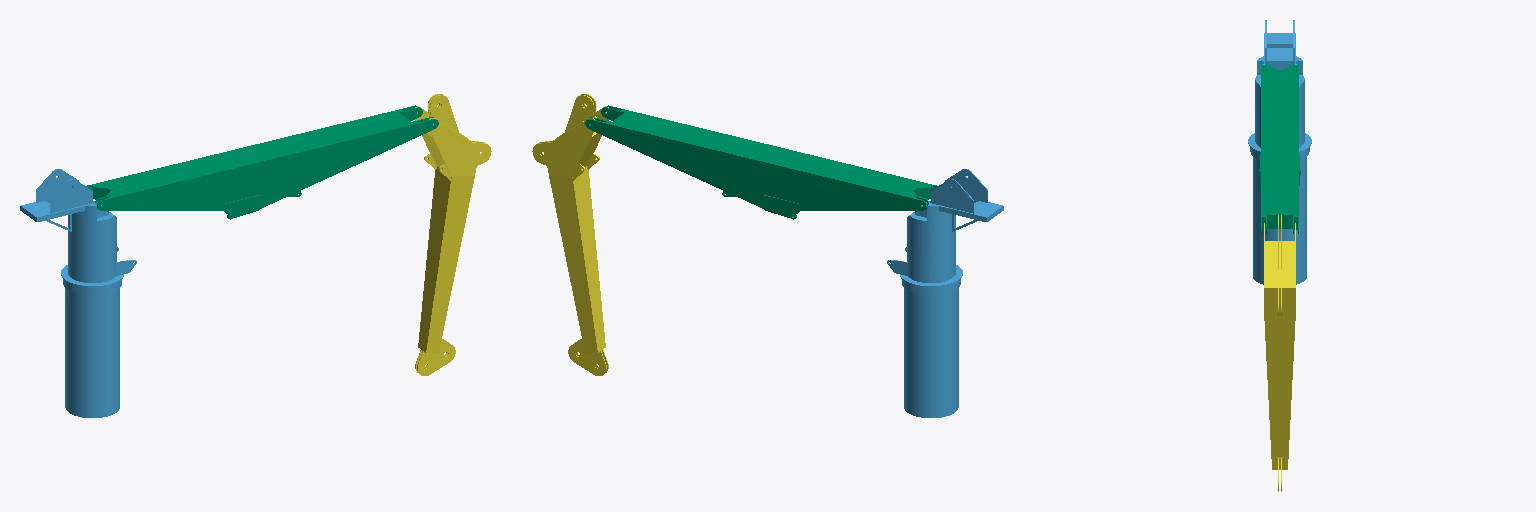
robot.urdf — crane3r:
<?xml version="1.0"?>
<robot name="crane3r">
  <!-- Links -->
  <link name="world"/>
  <link name="base_link">
    <visual>
      <geometry>
        <mesh filename="../models/obj/Crane3R/4200/4200.obj"/>
      </geometry>
    </visual>
  </link>
  <link name="boom_link">
    <visual>
      <geometry>
        <mesh filename="../models/obj/Crane3R/7000/7000.obj"/>
      </geometry>
    </visual>
  </link>
  <link name="jib_link">
    <visual>
      <geometry>
        <mesh filename="../models/obj/Crane3R/5200/5200.obj"/>
      </geometry>
    </visual>
  </link>
  <link name="end_effector"/>

  <!-- base_joint: rotates about Z between world -> base_link -->
  <joint name="base_joint" type="revolute">
    <parent link="world"/>
    <child link="base_link"/>
    <origin xyz="0 0 0" rpy="0 0 0"/>
    <axis xyz="0 0 1"/>
    <limit lower="-3.1416" upper="3.1416" effort="1.0" velocity="1.0"/>
  </joint>

  <!-- boom_joint: offset (0,0,4.2), rotates about Y (pitch) base_link -> boom_link -->
  <joint name="boom_joint" type="revolute">
    <parent link="base_link"/>
    <child link="boom_link"/>
    <origin xyz="0 0 4.2" rpy="0 0 0"/>
    <axis xyz="0 1 0"/>
    <limit lower="-1.396" upper="0" effort="1.0" velocity="1.0"/>
  </joint>

  <!-- jib_joint: offset (7,0,0), rotates about Y (pitch) boom_link -> jib_link -->
  <joint name="jib_joint" type="revolute">
    <parent link="boom_link"/>
    <child link="jib_link"/>
    <origin xyz="7 0 0" rpy="0 0 0"/>
    <axis xyz="0 1 0"/>
    <limit lower="0.69" upper="2.44" effort="1.0" velocity="1.0"/>
  </joint>

  <!-- end effector fixed offset (5.2,0,0) -->
  <joint name="ee_fixed" type="fixed">
    <parent link="jib_link"/>
    <child link="end_effector"/>
    <origin xyz="5.2 0 0" rpy="0 0 0"/>
  </joint>
</robot>

--- Render facts (derived) ---
3 views of the same robot in one strip: view 1: azimuth 30°, elevation 25°; view 2: azimuth 150°, elevation 25°; view 3: azimuth 270°, elevation 25° (orthographic).
Model crane3r with 5 links and 4 joints (3 revolute, 1 fixed), rooted at world, posed joints at zero except 1 at the middle of their limits (jib_joint = 1.56).
Visible links, largest first — view 1: boom_link, base_link, jib_link; view 2: boom_link, base_link, jib_link; view 3: boom_link, jib_link, base_link.
Boxes of the visible links, left/top/right/bottom form: boom_link: left=86, top=105, right=438, bottom=219; base_link: left=20, top=169, right=136, bottom=417; jib_link: left=415, top=94, right=491, bottom=375; boom_link: left=585, top=105, right=937, bottom=219; base_link: left=887, top=169, right=1003, bottom=417; jib_link: left=532, top=94, right=608, bottom=375; boom_link: left=1259, top=61, right=1300, bottom=233; jib_link: left=1264, top=215, right=1295, bottom=491; base_link: left=1248, top=20, right=1311, bottom=284.
Size in the robot's own frame: 9.74 by 1.16 by 5.83 metres.
Meshes: 3 distinct files referenced, 3 mesh visuals loaded (3 OBJ).